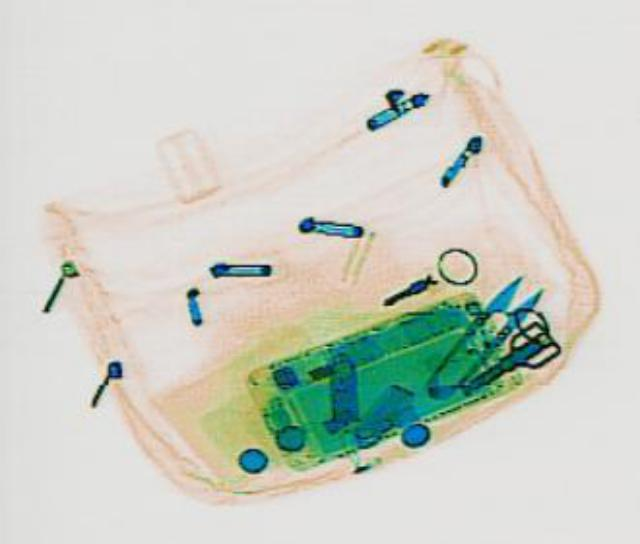Scissors: (409, 269, 546, 401)
